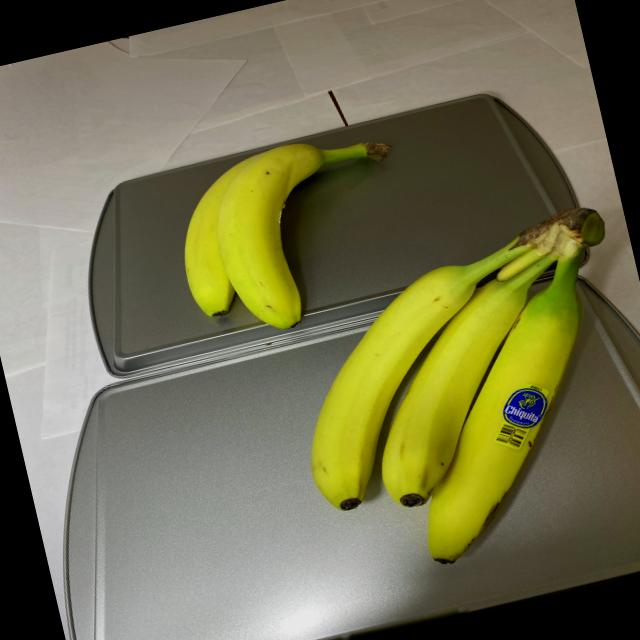banana: (260, 199, 640, 596), (152, 120, 430, 348)
